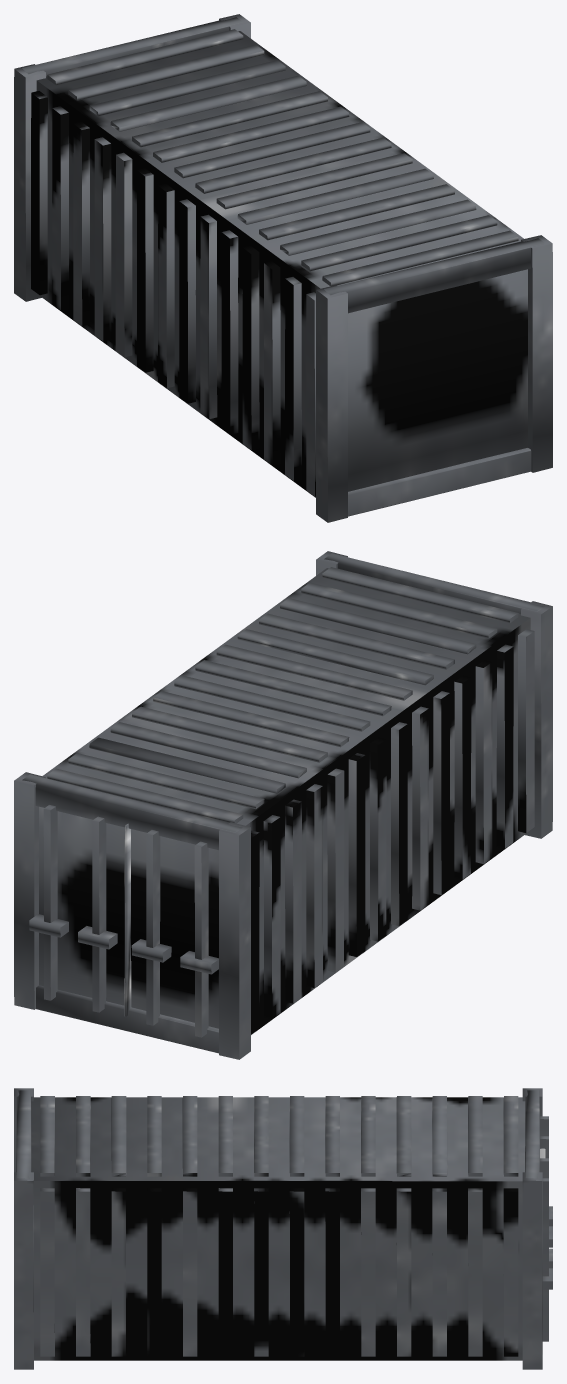
The model's file is Contenedor_Gris.fbx.
The picture shows the model from 3 angles, top to bottom: view 1: azimuth 30°, elevation 25°; view 2: azimuth 150°, elevation 25°; view 3: azimuth 270°, elevation 25°; orthographic projection. The views are drawn at different scales.
Visible parts, largest first — view 1: Contenedor_Gris; view 2: Contenedor_Gris; view 3: Contenedor_Gris.
Boxes of the visible parts, x1,y1,x2,y2 form: Contenedor_Gris: [14, 14, 552, 522]; Contenedor_Gris: [14, 551, 552, 1059]; Contenedor_Gris: [14, 1088, 552, 1369].
Size of the model in its own units: 4.18 by 4 by 10.28.
